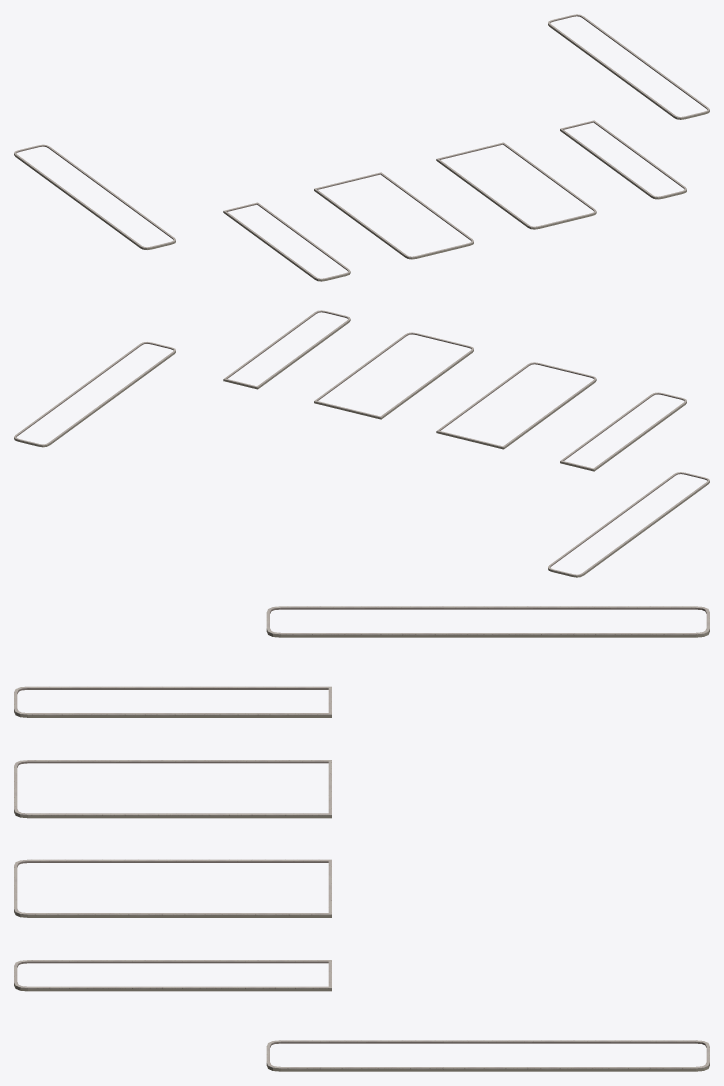
Rendered from zhucheng_wangchengdizuo_4.FBX.
3 views of the same model, one above another, from view 1: azimuth 30°, elevation 25°; view 2: azimuth 150°, elevation 25°; view 3: azimuth 270°, elevation 25° (orthographic). The views are drawn at different scales.
Parts seen in each view (by area): view 1: zhucheng_wangchengdizuo_4; view 2: zhucheng_wangchengdizuo_4; view 3: zhucheng_wangchengdizuo_4.
Boxes of the visible parts, x1,y1,x2,y2 form: zhucheng_wangchengdizuo_4: [14, 14, 709, 281]; zhucheng_wangchengdizuo_4: [14, 310, 709, 577]; zhucheng_wangchengdizuo_4: [14, 606, 709, 1071].
Size of the model in its own units: 3439 by 11.6 by 2189.
